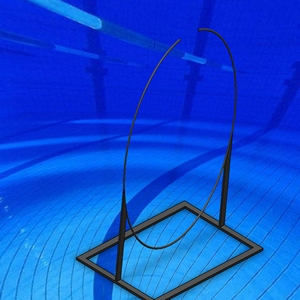circle: (75, 26, 265, 300)
